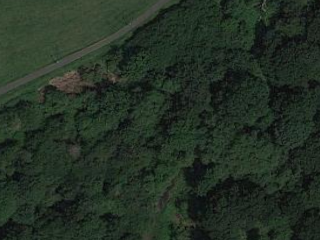Tree: (152, 144, 195, 169), (166, 103, 209, 128), (117, 104, 160, 129), (223, 90, 266, 115), (188, 44, 231, 69), (215, 139, 258, 164), (217, 190, 260, 215), (96, 198, 139, 223), (41, 197, 84, 222), (273, 105, 316, 130), (276, 48, 319, 73), (132, 60, 175, 85), (72, 104, 115, 129), (45, 117, 77, 140), (37, 151, 69, 174), (88, 155, 120, 178)
